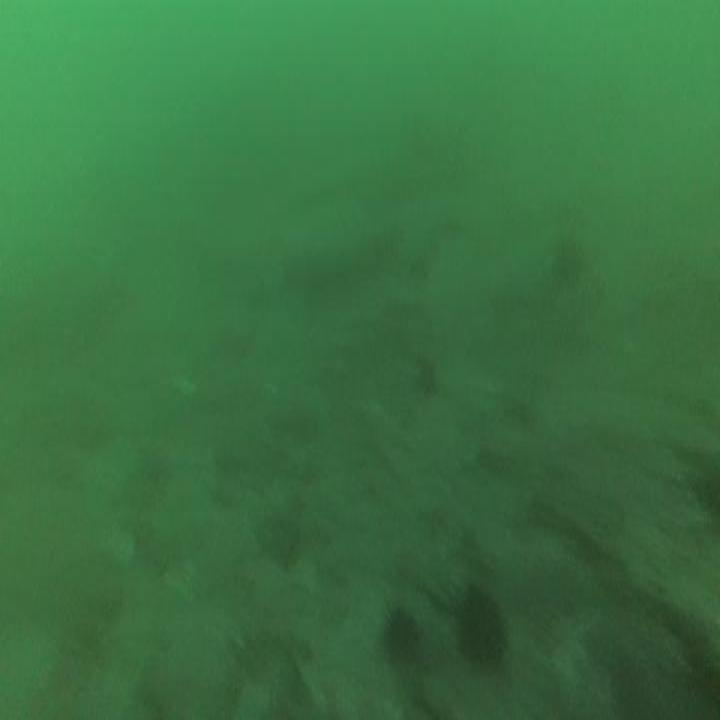echinus: (462, 592, 507, 663), (386, 608, 419, 667)
